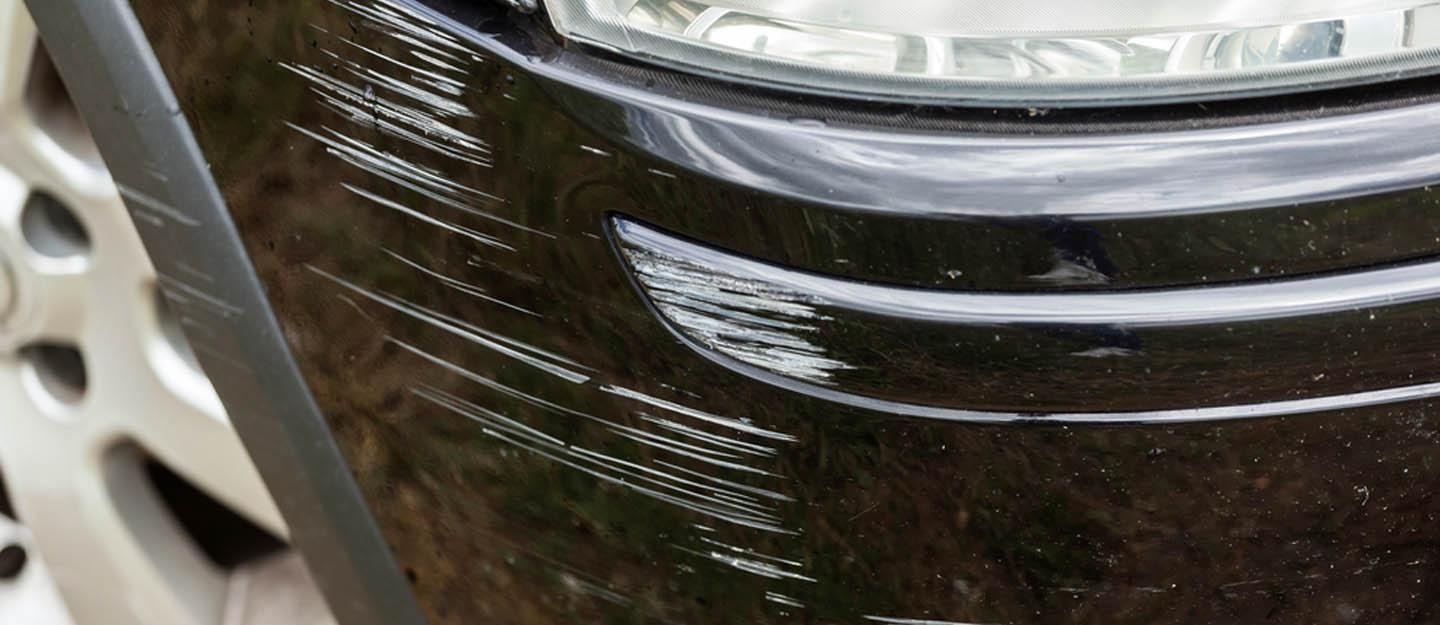scratch: (102, 0, 1034, 624), (1014, 242, 1140, 282)
